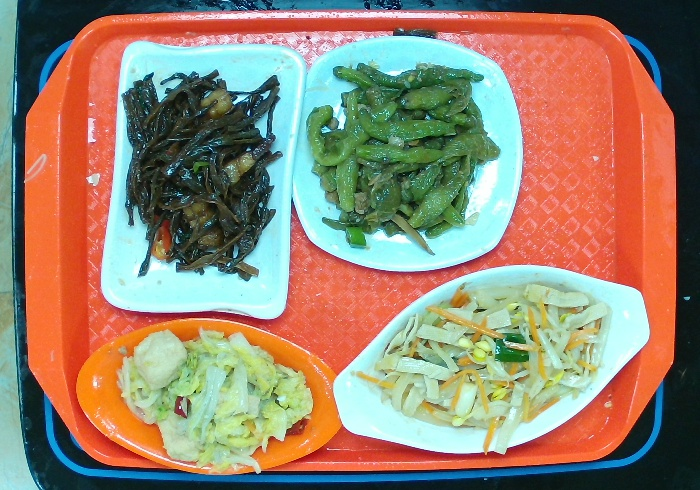RJxy-Ju_Huang_Tuo_Yuan: (73, 314, 344, 475)
RJxy-Si_Fang_Ao_Bian_Wan: (97, 39, 309, 321)
RJxy-Si_Fang_Die: (290, 34, 525, 273)
RJxy-Yu_Pan: (330, 262, 652, 455)
